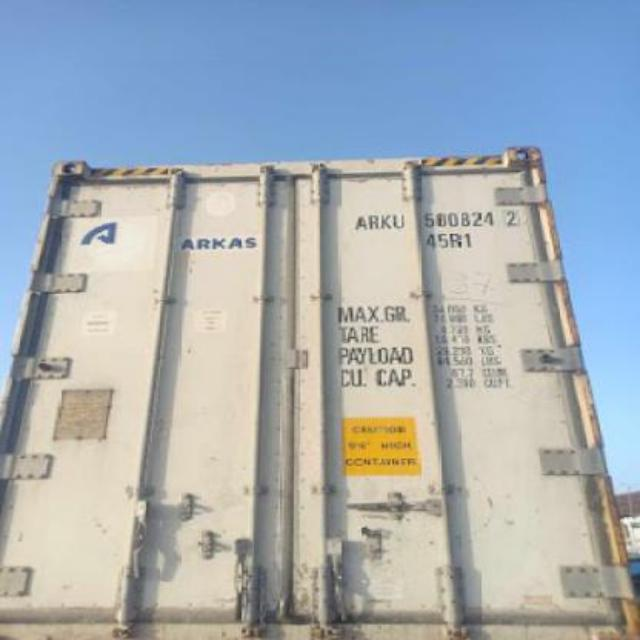0: (446, 209, 459, 227), (436, 211, 448, 227)
2: (504, 208, 520, 228), (472, 209, 484, 229)
4: (482, 208, 498, 228)
5: (422, 211, 436, 229)
8: (458, 211, 474, 231)
A: (354, 213, 368, 231)
K: (378, 213, 394, 231)
R: (366, 214, 379, 230)
U: (392, 213, 406, 231)
